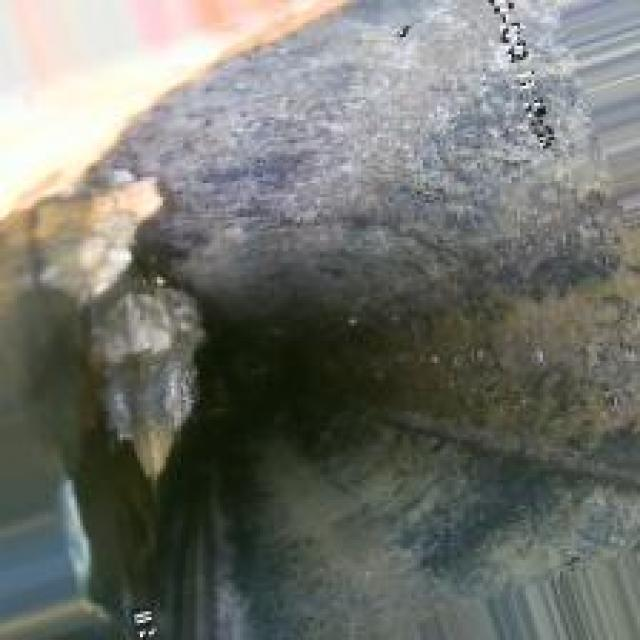stone: (37, 180, 237, 483)
